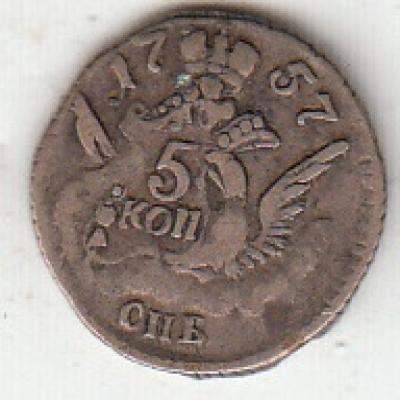numismatics: (29, 7, 385, 380)
